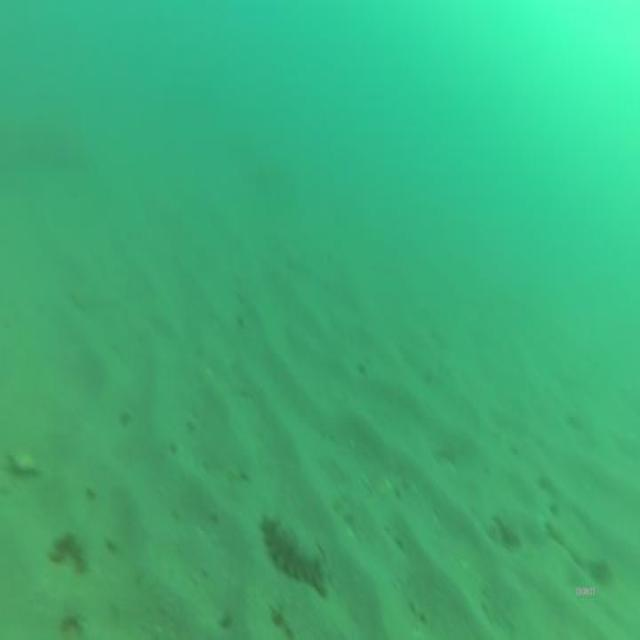holothurian: (258, 506, 332, 600)
